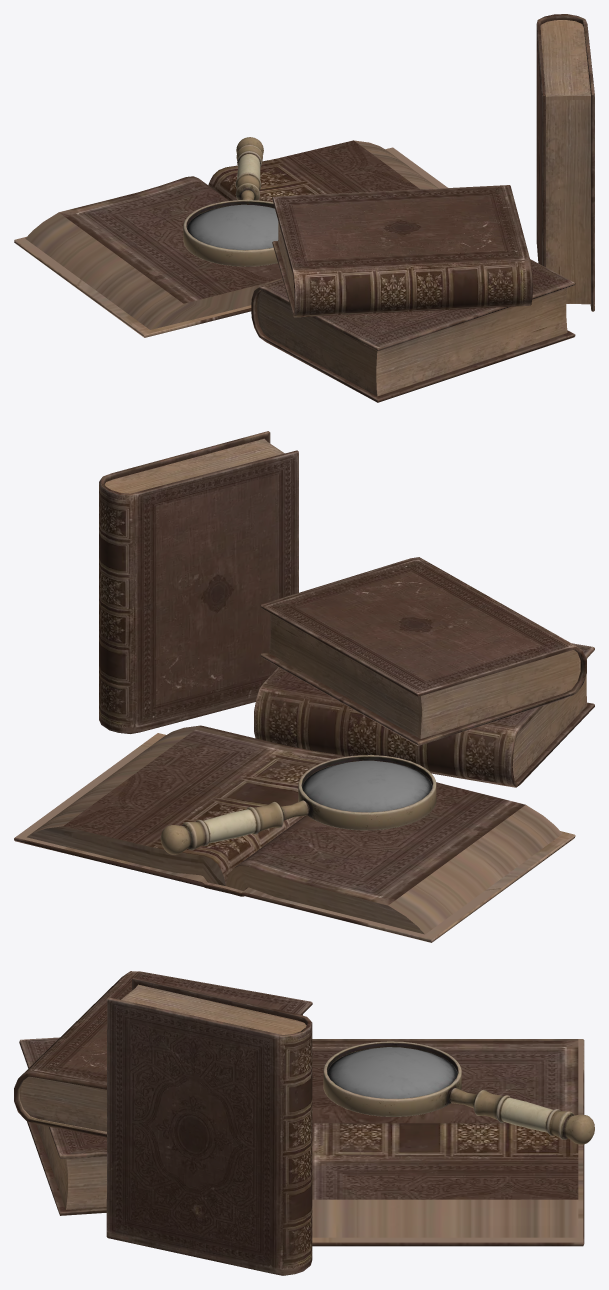
File: lupa.glb
3 views of the same model, one above another, from view 1: azimuth 30°, elevation 25°; view 2: azimuth 150°, elevation 25°; view 3: azimuth 270°, elevation 25° (orthographic). The views are drawn at different scales.
Visible parts, largest first — view 1: Open_book, Magnifier; view 2: Open_book, Magnifier; view 3: Open_book, Magnifier.
Part boxes in pixels (left/top/right/bottom): Open_book: left=14, top=14, right=594, bottom=402; Magnifier: left=183, top=137, right=278, bottom=266; Open_book: left=14, top=431, right=594, bottom=942; Magnifier: left=160, top=755, right=436, bottom=854; Open_book: left=14, top=971, right=584, bottom=1275; Magnifier: left=323, top=1041, right=594, bottom=1144.
Size of the model in its own units: 0.4027 by 0.1928 by 0.4215.
2 materials, 2 textured.
